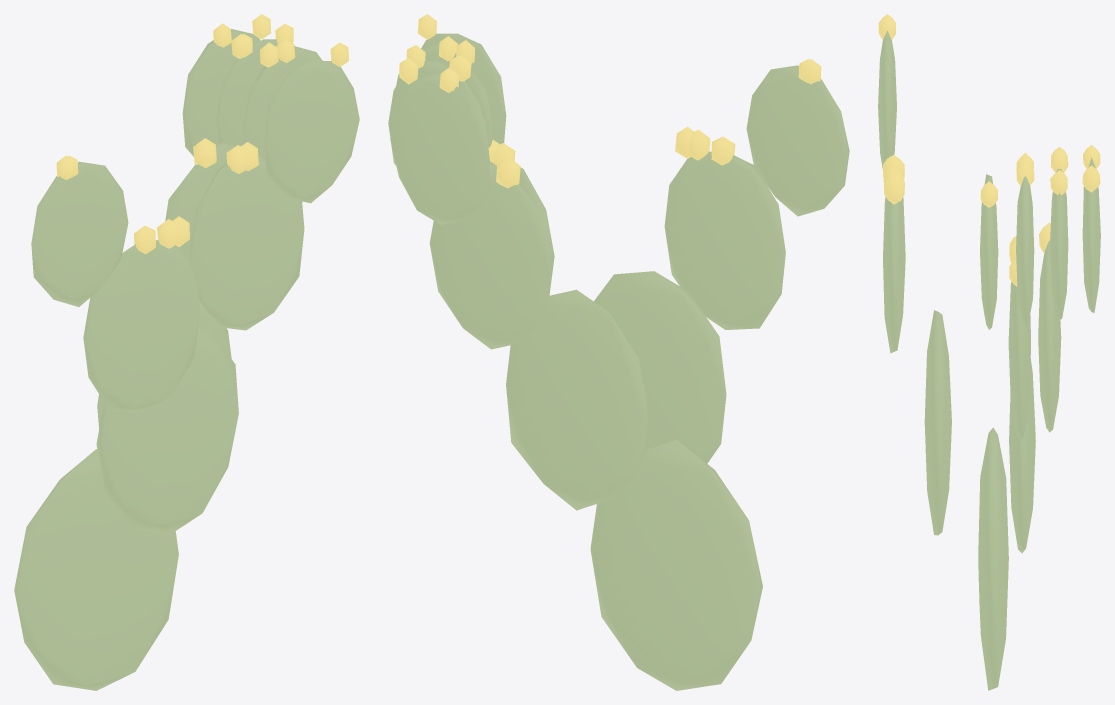
Rendered from Blender_PricklyPear_1.glb.
The picture shows the model from 3 angles, left to right: view 1: azimuth 30°, elevation 25°; view 2: azimuth 150°, elevation 25°; view 3: azimuth 270°, elevation 25°; orthographic projection. The views are drawn at different scales.
Visible parts, largest first — view 1: Blender_PricklyPear_1; view 2: Blender_PricklyPear_1; view 3: Blender_PricklyPear_1.
Part boxes in pixels (x1,y1,x2,y2): Blender_PricklyPear_1: (14,14,359,690); Blender_PricklyPear_1: (388,14,849,690); Blender_PricklyPear_1: (878,14,1100,690).
Bounding box in the file's own units: 0.8577 × 1.29 × 0.4145.
